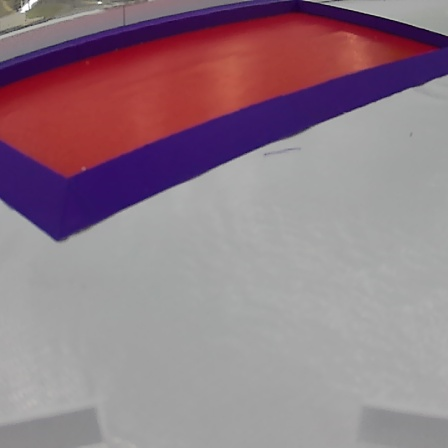red_aim: (0, 1, 448, 240)
